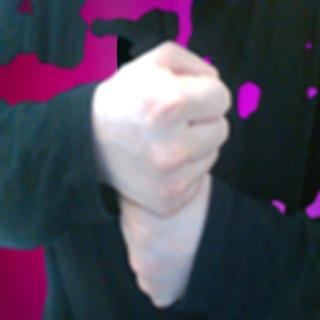CAREFUL: (90, 35, 233, 311)
